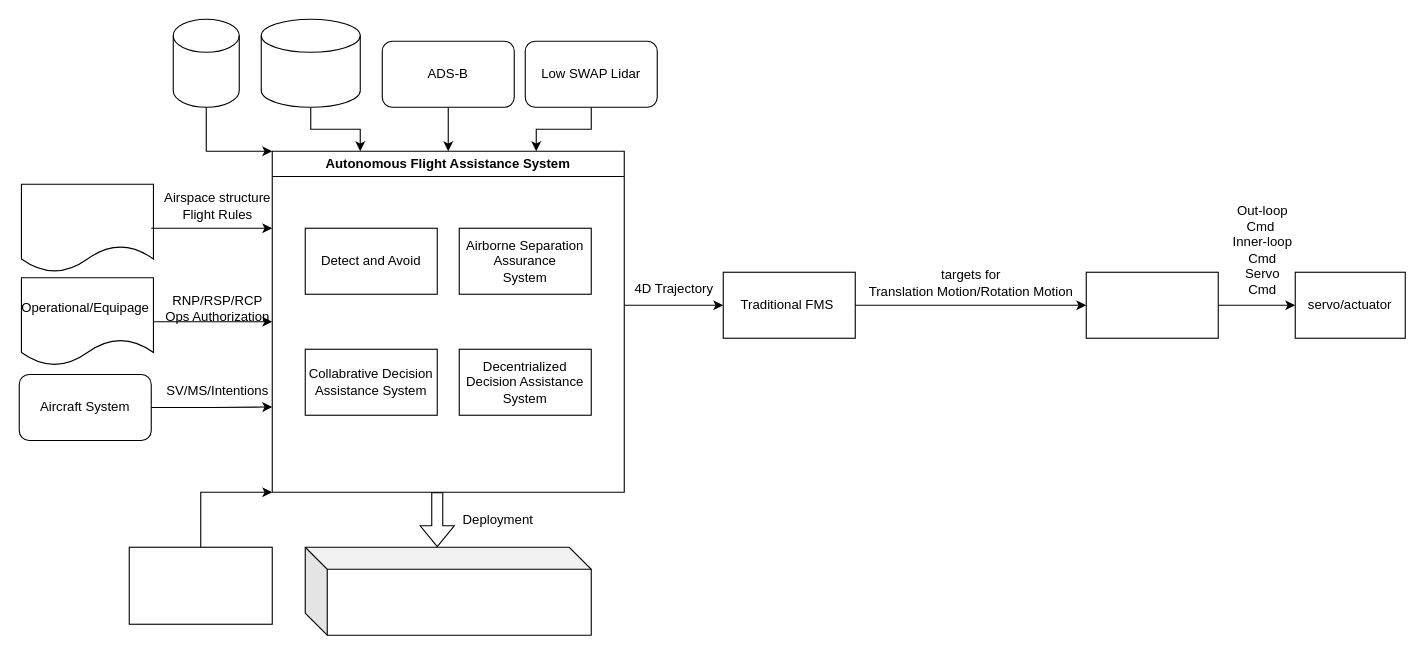
The diagram is 1425 pixels wide and 655 high, and some of its shapes have lost their labels. Each missing label, with the centre of its shape:
"Flight Control" goes at [1151,304].
"Ground Component" goes at [200,585].
"Infrastructure/Flight Rules" goes at [86,227].
"LRU/IMA/FMS hardware" goes at [447,590].
"Navigation Datebase" goes at [205,62].
"Terrain/Obstacle Datrabase" goes at [310,62].
